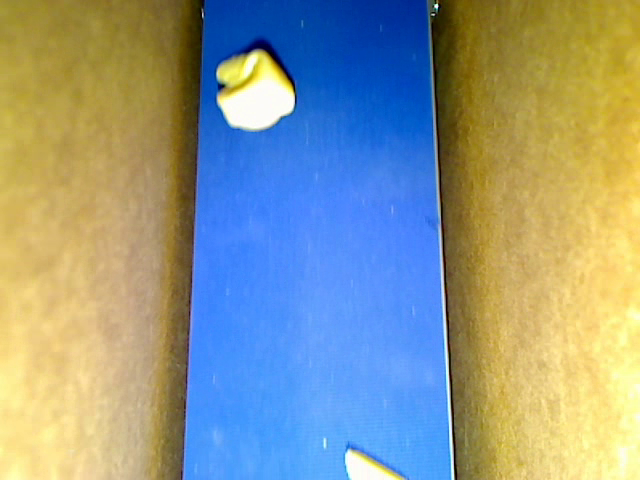penne: (344, 446, 407, 479)
tortellini: (215, 50, 296, 132)
